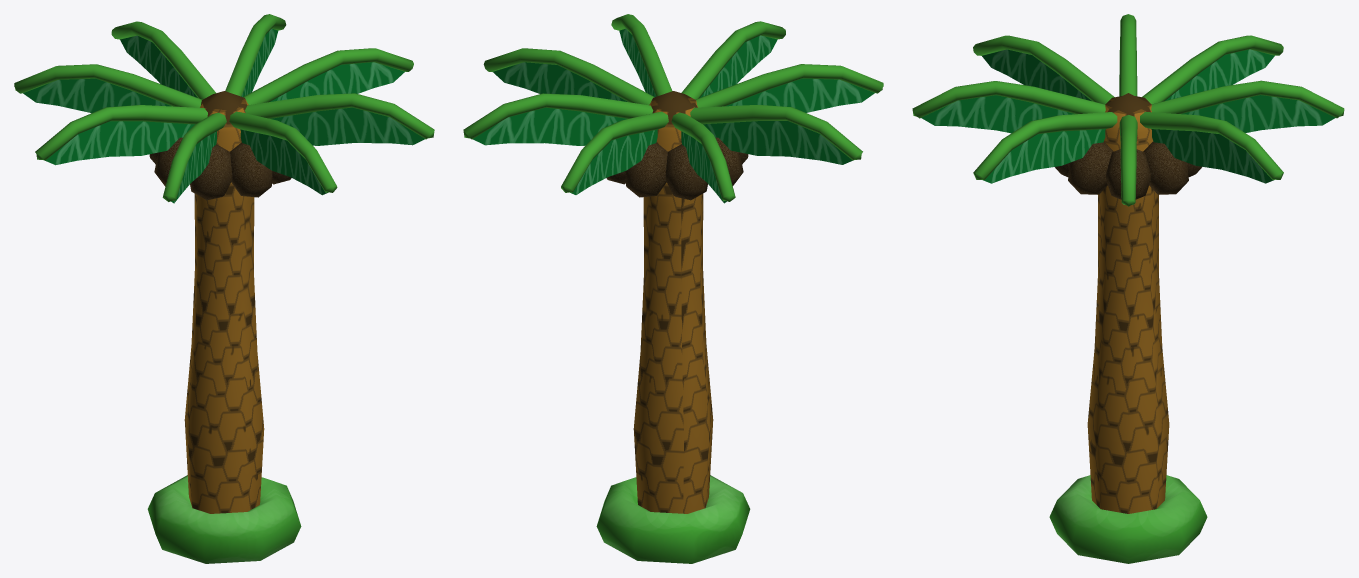
File: palm.FBX
3 renders of one model, left to right at view 1: azimuth 30°, elevation 25°; view 2: azimuth 150°, elevation 25°; view 3: azimuth 270°, elevation 25°, orthographic.
Visible parts, largest first — view 1: Cylinder01; view 2: Cylinder01; view 3: Cylinder01.
Part boxes in pixels (<box>): Cylinder01: <box>14,14,434,563</box>; Cylinder01: <box>463,14,883,563</box>; Cylinder01: <box>912,14,1344,563</box>.
Bounding box in the file's own units: 124 × 143 × 124.
